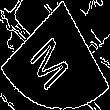M_NE: (30, 21, 80, 89)
